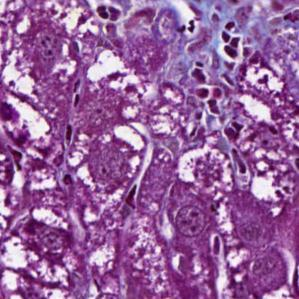inflammation: (213, 15, 249, 62), (88, 0, 127, 23)
